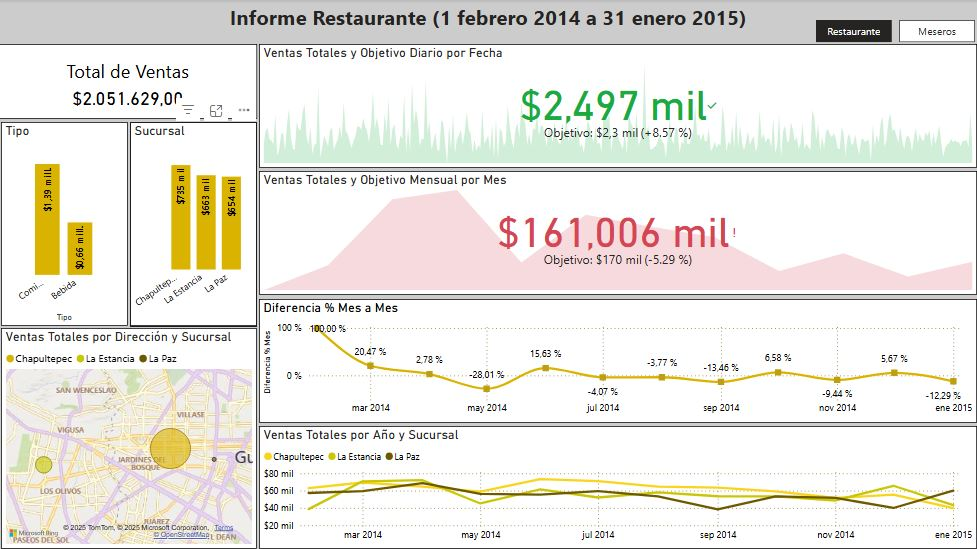

What the dashboard file says about the page in this screenshot:
{"tool":"powerbi","page":{"name":"Restaurante","canvas":[1280,720],"ordinal":0},"visuals":[{"type":"textbox","box":[290.9,0,699.4,58.8],"z":0},{"type":"cardVisual","fields":{"Data":["Sum(Detalles11.Precio)"]},"box":[0,58.8,338,98.4],"z":1000},{"type":"columnChart","title":"Tipo","fields":{"Category":["Productos11.Tipo"],"Y":["Detalles11.Ventas Totales"]},"box":[2.9,161.6,166,267.4],"z":2000},{"type":"lineChart","title":"Diferencia % Mes a Mes ","fields":{"Category":["Detalles11.Fecha.Variación.Jerarquía de fechas.Año","Detalles11.Fecha.Variación.Jerarquía de fechas.Mes"],"Y":["Detalles11.Diferencia % Mes"]},"box":[340.1,392.7,939.9,162.3],"z":3000},{"type":"columnChart","title":"Sucursal","fields":{"Category":["Detalles11.Sucursal"],"Y":["Detalles11.Ventas Totales"]},"box":[171.9,161.6,166,267.4],"z":4000},{"type":"map","fields":{"Category":["Sucursales11.Dirección"],"Series":["Sucursales11.Sucursal"],"Size":["Detalles11.Ventas Totales"]},"box":[2.6,430.7,335.1,289.3],"z":5000},{"type":"lineChart","title":"Ventas Totales por Año y Sucursal","fields":{"Category":["Detalles11.Fecha.Variación.Jerarquía de fechas.Año","Detalles11.Fecha.Variación.Jerarquía de fechas.Mes"],"Y":["Detalles11.Ventas Totales"],"Series":["Sucursales11.Sucursal"]},"box":[340.1,559,939.9,161],"z":6000},{"type":"kpi","title":"Ventas Totales y Objetivo Diario por Fecha","fields":{"Indicator":["Detalles11.Ventas Totales"],"TrendLine":["Detalles11.Fecha"],"Goal":["Detalles11.Objetivo Diario"]},"box":[340.4,58.9,939.9,162.3],"z":7000},{"type":"kpi","fields":{"Indicator":["Detalles11.Ventas Totales"],"TrendLine":["Detalles11.Mes"],"Goal":["Detalles11.Objetivo Mensual"]},"box":[340.1,225.2,939.9,162.3],"z":8000},{"type":"pageNavigator","box":[1069.7,27.9,208.7,29.4],"z":9000}]}

Visuals, with their boxes in screenshot pixels (x1, y1, x2, y2), scaled from the page's 1280x720 canvas onto the 977x549 screenshot:
textbox: 222/0/756/45
cardVisual - Sum(Detalles11.Precio): 0/45/258/120
"Tipo" columnChart: 2/123/129/327
"Diferencia % Mes a Mes " lineChart: 260/299/976/423
"Sucursal" columnChart: 131/123/258/327
map - Sucursales11.Dirección x Sucursales11.Sucursal: 2/328/258/548
"Ventas Totales por Año y Sucursal" lineChart: 260/426/976/548
"Ventas Totales y Objetivo Diario por Fecha" kpi: 260/45/976/169
kpi - Detalles11.Ventas Totales x Detalles11.Mes: 260/172/976/295
pageNavigator: 816/21/976/44
